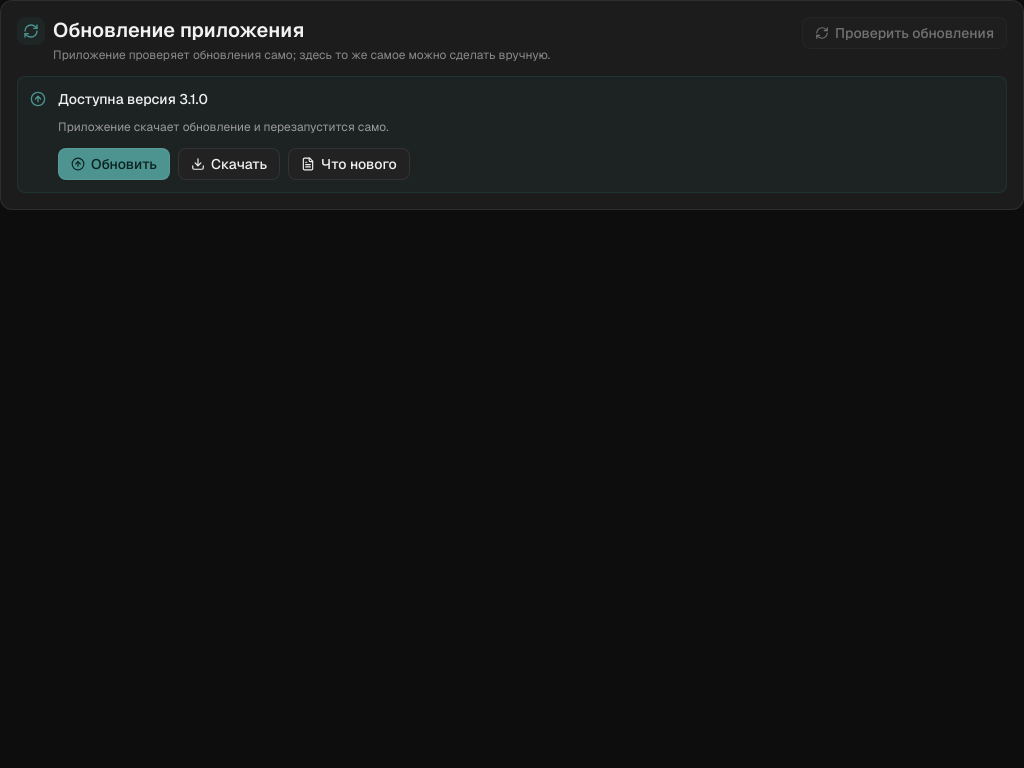
Scenario: UpdateCard › нарушение целостности названо своей причиной, а не общей
Click the button "Обновить" at (114, 164), box [58,148,170,180]
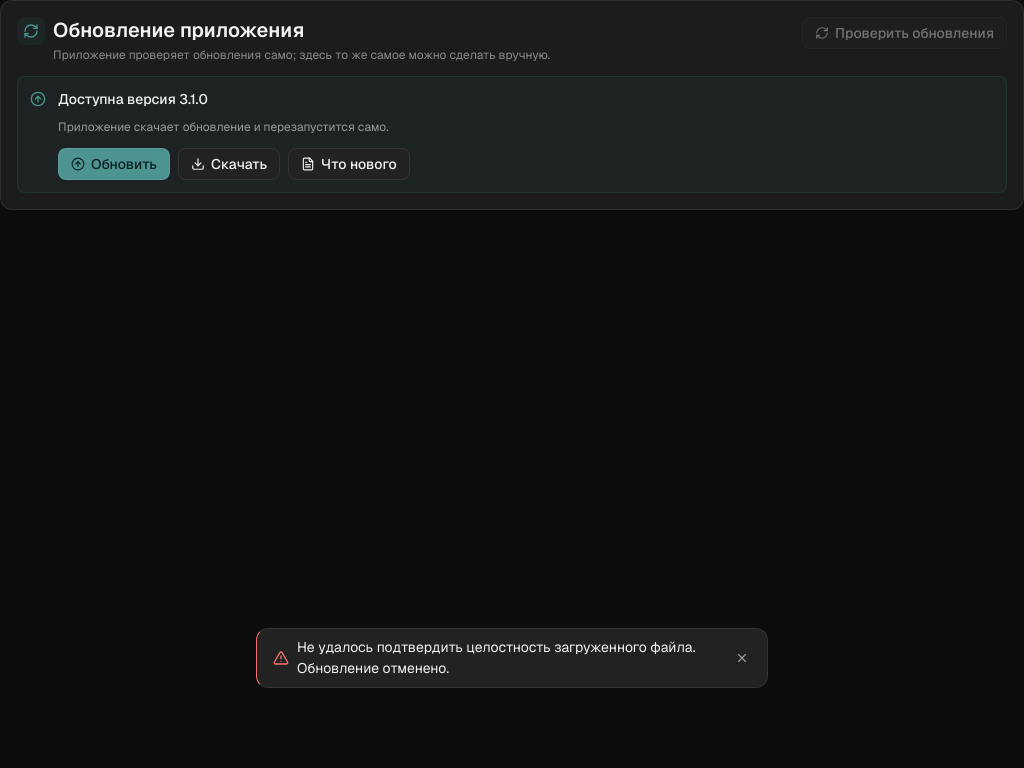
Check: the text "Не удалось подтвердить целостность загруженного файла. Обновление отменено." is shown, box [297,637,725,679]
